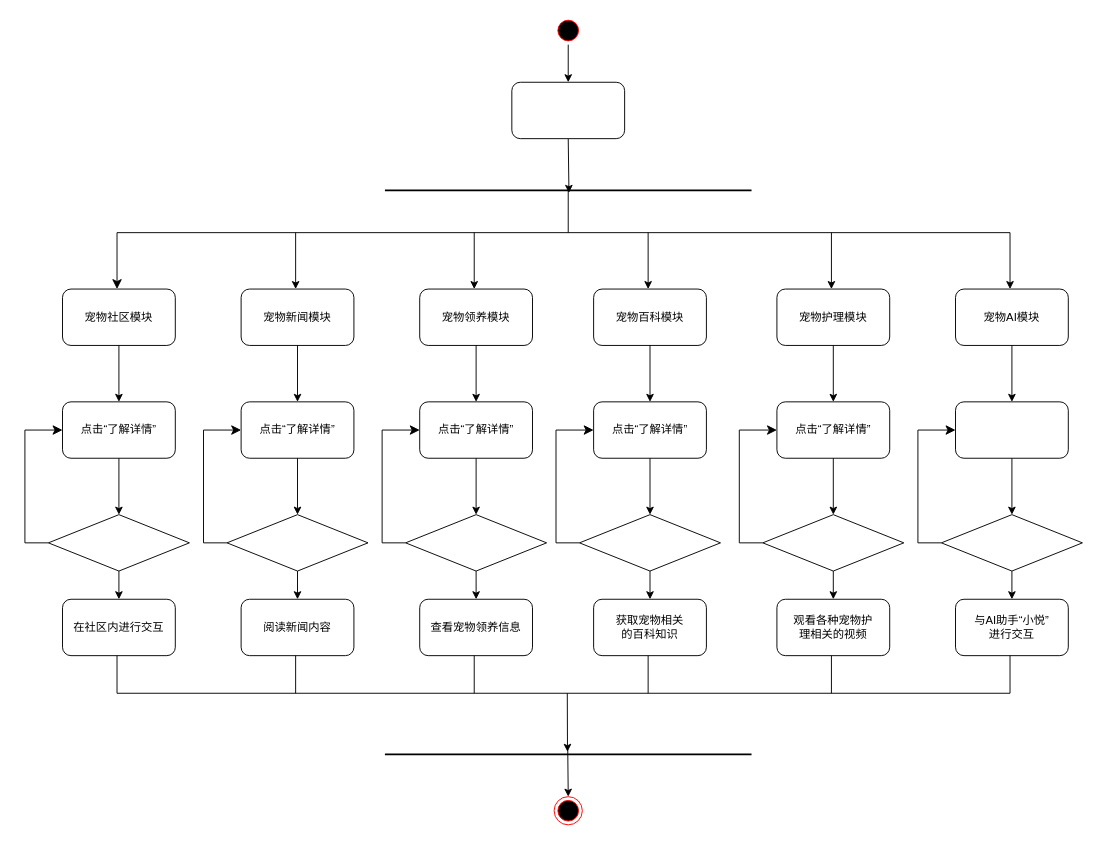
Some shapes in this 1099 by 841 pixel diagram are drawn without their labels. The box of each missing label's shape, as (x1, y1, x2, y2) in pixels:
点击“小悦”: (955, 401, 1068, 458)
访问主页: (511, 81, 625, 139)
